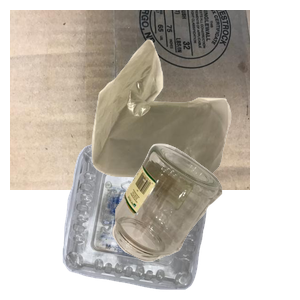cardboard: (10, 10, 250, 190)
glass: (110, 141, 300, 300)
plastic: (60, 141, 263, 300)
trash: (89, 37, 300, 213)
